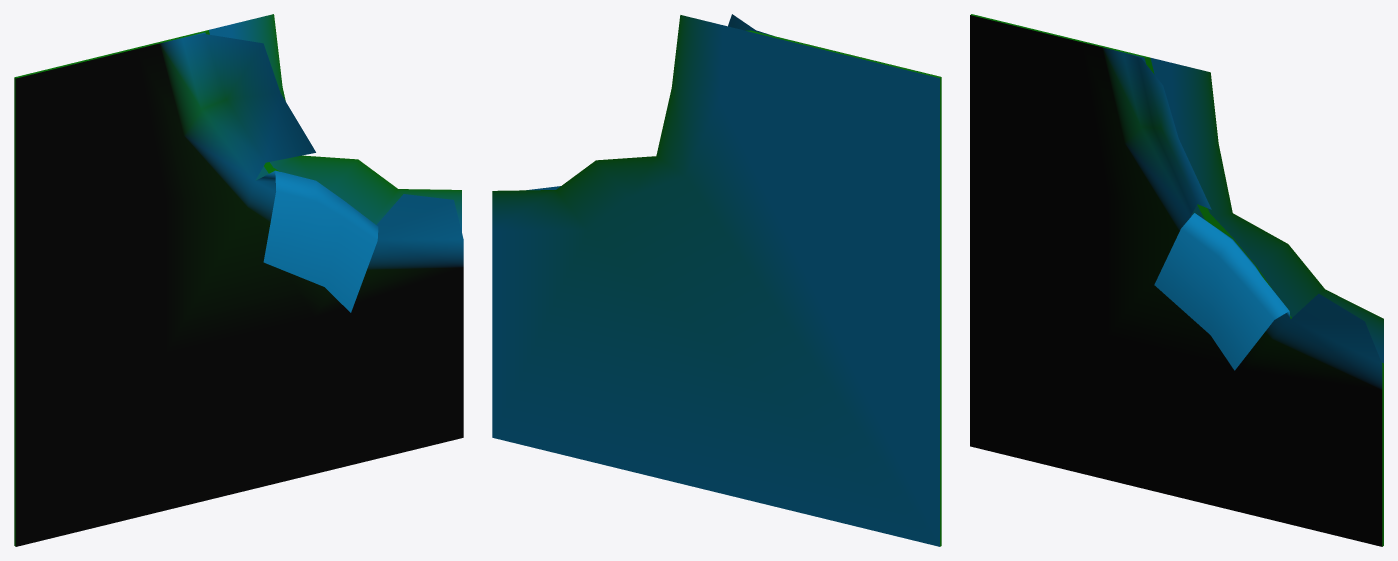
The model's file is DBK_Drywall_90_B_Single.fbx.
3 views of the same model, side by side, from view 1: azimuth 30°, elevation 25°; view 2: azimuth 150°, elevation 25°; view 3: azimuth 330°, elevation 25° (orthographic). The views are drawn at different scales.
Parts seen in each view (by area): view 1: DBK_Drywall_90_B_Single; view 2: DBK_Drywall_90_B_Single; view 3: DBK_Drywall_90_B_Single.
Boxes of the visible parts, <box> form: DBK_Drywall_90_B_Single: <box>14,14,463,546</box>; DBK_Drywall_90_B_Single: <box>492,14,941,546</box>; DBK_Drywall_90_B_Single: <box>970,14,1383,546</box>.
Size of what is drawn, in the model's own units: 300 by 300 by 29.62.
